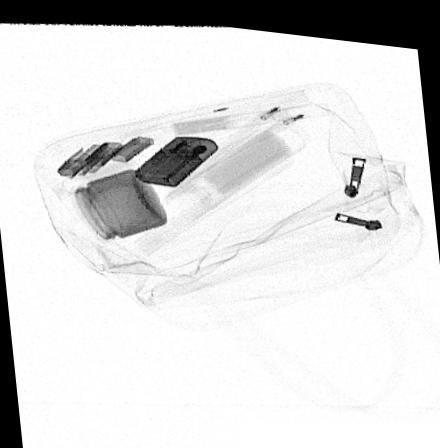Lighter: (134, 131, 219, 182)
